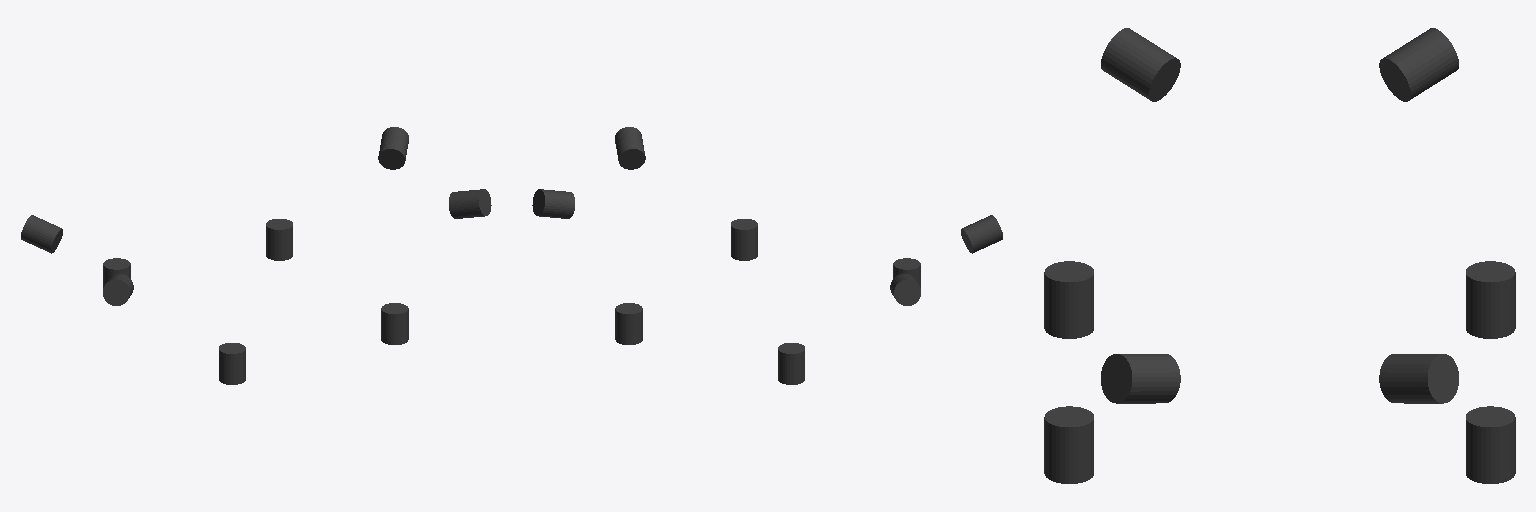
robot.urdf — rexrov:
<?xml version="1.0" ?>
<!-- =================================================================================== -->
<!-- |    This document was autogenerated by xacro from simulator_description/urdf/rexrov_default.xacro | -->
<!-- |    EDITING THIS FILE BY HAND IS NOT RECOMMENDED                                 | -->
<!-- =================================================================================== -->
<!-- Copyright (c) 2020 The Plankton Authors.
     All rights reserved.

     This source code is derived from UUV Simulator
     (https://github.com/uuvsimulator/uuv_simulator)
     Copyright (c) 2016-2019 The UUV Simulator Authors
     licensed under the Apache license, Version 2.0
     cf. 3rd-party-licenses.txt file in the root directory of this source tree.

     Licensed under the Apache License, Version 2.0 (the "License");
     you may not use this file except in compliance with the License.
     You may obtain a copy of the License at

       http://www.apache.org/licenses/LICENSE-2.0

     Unless required by applicable law or agreed to in writing, software
     distributed under the License is distributed on an "AS IS" BASIS,
     WITHOUT WARRANTIES OR CONDITIONS OF ANY KIND, either express or implied.
     See the License for the specific language governing permissions and
     limitations under the License.
-->
<robot name="rexrov">
  <!--
      The RexROV meshes and hydrodynamic parameters are based on the parameters and dimensions
      from the SF 30k.

      References:
        [1] Dukan, Fredrik. "ROV Motion Control Systems." PhD Thesis, NTNU, 2014.
        [2] Berg, Viktor. Development and Commissioning of a DP system for ROV SF 30k. MS
            thesis. Institutt for marin teknikk, 2012.

      Hull-only model: no sensors, thrusters or gazebo plugins.
      The mesh path is relative to the generated URDF/SDF, see CMakeLists.txt.
  -->
  <!--
      RexROV thruster geometry, identical to the UUV Simulator rexrov:
      thrusters 0-3 - main (vectored) thrusters at the top corners,
      thrusters 4-7 - vertical thrusters.

      Each thruster is a propeller link on a continuous joint (the thrust
      axis is the joint's local x-axis), driven by the built-in
      ignition::gazebo::systems::Thruster. Commands arrive on
      /model/<model>/joint/<joint>/cmd_thrust (gz.msgs.Double, Newtons) and
      are produced by the RexrovThrusterSystem allocator, which discovers
      these joints automatically by their "thruster_" name prefix.
  -->
  <!-- base_link according to ROS conventions: x forward, z up -->
  <link name="base_link">
    <inertial>
      <mass value="1862.87"/>
      <origin xyz="0 0 0"/>
      <inertia ixx="525.39" ixy="1.44" ixz="33.41" iyy="794.20" iyz="2.6" izz="691.23"/>
    </inertial>
    <visual>
      <origin rpy="0 0 0" xyz="0 0 0"/>
      <geometry>
        <mesh filename="meshes/RexROV_no_props.dae" scale="1 1 1"/>
      </geometry>
    </visual>
    <!-- bottom plate -->
    <collision>
      <origin rpy="0 0 0" xyz="0 0 -0.75"/>
      <geometry>
        <box size="2.56 1.50 0.10"/>
      </geometry>
    </collision>
    <!-- top plate -->
    <collision>
      <origin rpy="0 0 0" xyz="0 0 0.60"/>
      <geometry>
        <box size="2.56 1.50 0.40"/>
      </geometry>
    </collision>
    <!-- left / right sides -->
    <collision>
      <origin rpy="0 0 0" xyz="-0.20 0.70 -0.15"/>
      <geometry>
        <box size="2.20 0.10 1.10"/>
      </geometry>
    </collision>
    <collision>
      <origin rpy="0 0 0" xyz="-0.20 -0.70 -0.15"/>
      <geometry>
        <box size="2.20 0.10 1.10"/>
      </geometry>
    </collision>
  </link>
  <!-- Extension point for future gazebo plugin blocks (e.g. hydrodynamics) -->
  <gazebo>
    <plugin filename="libRexrovThrusterSystem.so" name="simulator_gazebo_plugins::RexrovThrusterSystem">
      <cmd_topic>/model/rexrov/cmd_vel</cmd_topic>
      <joint_prefix>thruster_</joint_prefix>
      <force_gain>1500</force_gain>
      <torque_gain>1000</torque_gain>
      <time_constant>0.05</time_constant>
    </plugin>
  </gazebo>
  <link name="thruster_0">
    <inertial>
      <mass value="0.001"/>
      <origin xyz="0 0 0"/>
      <inertia ixx="0.00000001" ixy="0.0" ixz="0.0" iyy="0.00000001" iyz="0.0" izz="0.00000001"/>
    </inertial>
    <visual>
      <origin rpy="0 0 0" xyz="0 0 0"/>
      <geometry>
        <cylinder length="0.15" radius="0.06"/>
      </geometry>
      <material name="">
        <color rgba="0.3 0.3 0.3 1.0"/>
      </material>
    </visual>
  </link>
  <joint name="thruster_0_joint" type="continuous">
    <parent link="base_link"/>
    <child link="thruster_0"/>
    <origin rpy="0.0 -1.3007937037 -0.9286895609" xyz="-0.890895 0.334385 0.528822"/>
    <axis xyz="1 0 0"/>
  </joint>
  <gazebo>
    <plugin filename="ignition-gazebo-thruster-system" name="ignition::gazebo::systems::Thruster">
      <joint_name>thruster_0_joint</joint_name>
      <thrust_coefficient>0.004422</thrust_coefficient>
      <fluid_density>1000</fluid_density>
      <propeller_diameter>0.2</propeller_diameter>
    </plugin>
  </gazebo>
  <link name="thruster_1">
    <inertial>
      <mass value="0.001"/>
      <origin xyz="0 0 0"/>
      <inertia ixx="0.00000001" ixy="0.0" ixz="0.0" iyy="0.00000001" iyz="0.0" izz="0.00000001"/>
    </inertial>
    <visual>
      <origin rpy="0 0 0" xyz="0 0 0"/>
      <geometry>
        <cylinder length="0.15" radius="0.06"/>
      </geometry>
      <material name="">
        <color rgba="0.3 0.3 0.3 1.0"/>
      </material>
    </visual>
  </link>
  <joint name="thruster_1_joint" type="continuous">
    <parent link="base_link"/>
    <child link="thruster_1"/>
    <origin rpy="0.0 -1.3007937037 0.9286895609" xyz="-0.890895 -0.334385 0.528822"/>
    <axis xyz="1 0 0"/>
  </joint>
  <gazebo>
    <plugin filename="ignition-gazebo-thruster-system" name="ignition::gazebo::systems::Thruster">
      <joint_name>thruster_1_joint</joint_name>
      <thrust_coefficient>0.004422</thrust_coefficient>
      <fluid_density>1000</fluid_density>
      <propeller_diameter>0.2</propeller_diameter>
    </plugin>
  </gazebo>
  <link name="thruster_2">
    <inertial>
      <mass value="0.001"/>
      <origin xyz="0 0 0"/>
      <inertia ixx="0.00000001" ixy="0.0" ixz="0.0" iyy="0.00000001" iyz="0.0" izz="0.00000001"/>
    </inertial>
    <visual>
      <origin rpy="0 0 0" xyz="0 0 0"/>
      <geometry>
        <cylinder length="0.15" radius="0.06"/>
      </geometry>
      <material name="">
        <color rgba="0.3 0.3 0.3 1.0"/>
      </material>
    </visual>
  </link>
  <joint name="thruster_2_joint" type="continuous">
    <parent link="base_link"/>
    <child link="thruster_2"/>
    <origin rpy="0.0 -1.8407984963 0.9286895609" xyz="0.890895 0.334385 0.528822"/>
    <axis xyz="1 0 0"/>
  </joint>
  <gazebo>
    <plugin filename="ignition-gazebo-thruster-system" name="ignition::gazebo::systems::Thruster">
      <joint_name>thruster_2_joint</joint_name>
      <thrust_coefficient>0.004422</thrust_coefficient>
      <fluid_density>1000</fluid_density>
      <propeller_diameter>0.2</propeller_diameter>
    </plugin>
  </gazebo>
  <link name="thruster_3">
    <inertial>
      <mass value="0.001"/>
      <origin xyz="0 0 0"/>
      <inertia ixx="0.00000001" ixy="0.0" ixz="0.0" iyy="0.00000001" iyz="0.0" izz="0.00000001"/>
    </inertial>
    <visual>
      <origin rpy="0 0 0" xyz="0 0 0"/>
      <geometry>
        <cylinder length="0.15" radius="0.06"/>
      </geometry>
      <material name="">
        <color rgba="0.3 0.3 0.3 1.0"/>
      </material>
    </visual>
  </link>
  <joint name="thruster_3_joint" type="continuous">
    <parent link="base_link"/>
    <child link="thruster_3"/>
    <origin rpy="0.0 -1.8407984963 -0.9286895609" xyz="0.890895 -0.334385 0.528822"/>
    <axis xyz="1 0 0"/>
  </joint>
  <gazebo>
    <plugin filename="ignition-gazebo-thruster-system" name="ignition::gazebo::systems::Thruster">
      <joint_name>thruster_3_joint</joint_name>
      <thrust_coefficient>0.004422</thrust_coefficient>
      <fluid_density>1000</fluid_density>
      <propeller_diameter>0.2</propeller_diameter>
    </plugin>
  </gazebo>
  <link name="thruster_4">
    <inertial>
      <mass value="0.001"/>
      <origin xyz="0 0 0"/>
      <inertia ixx="0.00000001" ixy="0.0" ixz="0.0" iyy="0.00000001" iyz="0.0" izz="0.00000001"/>
    </inertial>
    <visual>
      <origin rpy="0 0 0" xyz="0 0 0"/>
      <geometry>
        <cylinder length="0.15" radius="0.06"/>
      </geometry>
      <material name="">
        <color rgba="0.3 0.3 0.3 1.0"/>
      </material>
    </visual>
  </link>
  <joint name="thruster_4_joint" type="continuous">
    <parent link="base_link"/>
    <child link="thruster_4"/>
    <origin rpy="0.0 0.0 0.78539805" xyz="-0.412125 0.505415 0.129"/>
    <axis xyz="1 0 0"/>
  </joint>
  <gazebo>
    <plugin filename="ignition-gazebo-thruster-system" name="ignition::gazebo::systems::Thruster">
      <joint_name>thruster_4_joint</joint_name>
      <thrust_coefficient>0.004422</thrust_coefficient>
      <fluid_density>1000</fluid_density>
      <propeller_diameter>0.2</propeller_diameter>
    </plugin>
  </gazebo>
  <link name="thruster_5">
    <inertial>
      <mass value="0.001"/>
      <origin xyz="0 0 0"/>
      <inertia ixx="0.00000001" ixy="0.0" ixz="0.0" iyy="0.00000001" iyz="0.0" izz="0.00000001"/>
    </inertial>
    <visual>
      <origin rpy="0 0 0" xyz="0 0 0"/>
      <geometry>
        <cylinder length="0.15" radius="0.06"/>
      </geometry>
      <material name="">
        <color rgba="0.3 0.3 0.3 1.0"/>
      </material>
    </visual>
  </link>
  <joint name="thruster_5_joint" type="continuous">
    <parent link="base_link"/>
    <child link="thruster_5"/>
    <origin rpy="0.0 0.0 -0.78539805" xyz="-0.412125 -0.505415 0.129"/>
    <axis xyz="1 0 0"/>
  </joint>
  <gazebo>
    <plugin filename="ignition-gazebo-thruster-system" name="ignition::gazebo::systems::Thruster">
      <joint_name>thruster_5_joint</joint_name>
      <thrust_coefficient>0.004422</thrust_coefficient>
      <fluid_density>1000</fluid_density>
      <propeller_diameter>0.2</propeller_diameter>
    </plugin>
  </gazebo>
  <link name="thruster_6">
    <inertial>
      <mass value="0.001"/>
      <origin xyz="0 0 0"/>
      <inertia ixx="0.00000001" ixy="0.0" ixz="0.0" iyy="0.00000001" iyz="0.0" izz="0.00000001"/>
    </inertial>
    <visual>
      <origin rpy="0 0 0" xyz="0 0 0"/>
      <geometry>
        <cylinder length="0.15" radius="0.06"/>
      </geometry>
      <material name="">
        <color rgba="0.3 0.3 0.3 1.0"/>
      </material>
    </visual>
  </link>
  <joint name="thruster_6_joint" type="continuous">
    <parent link="base_link"/>
    <child link="thruster_6"/>
    <origin rpy="0.0 0.0 2.35619415" xyz="0.412125 0.505415 0.129"/>
    <axis xyz="1 0 0"/>
  </joint>
  <gazebo>
    <plugin filename="ignition-gazebo-thruster-system" name="ignition::gazebo::systems::Thruster">
      <joint_name>thruster_6_joint</joint_name>
      <thrust_coefficient>0.004422</thrust_coefficient>
      <fluid_density>1000</fluid_density>
      <propeller_diameter>0.2</propeller_diameter>
    </plugin>
  </gazebo>
  <link name="thruster_7">
    <inertial>
      <mass value="0.001"/>
      <origin xyz="0 0 0"/>
      <inertia ixx="0.00000001" ixy="0.0" ixz="0.0" iyy="0.00000001" iyz="0.0" izz="0.00000001"/>
    </inertial>
    <visual>
      <origin rpy="0 0 0" xyz="0 0 0"/>
      <geometry>
        <cylinder length="0.15" radius="0.06"/>
      </geometry>
      <material name="">
        <color rgba="0.3 0.3 0.3 1.0"/>
      </material>
    </visual>
  </link>
  <joint name="thruster_7_joint" type="continuous">
    <parent link="base_link"/>
    <child link="thruster_7"/>
    <origin rpy="0.0 0.0 -2.35619415" xyz="0.412125 -0.505415 0.129"/>
    <axis xyz="1 0 0"/>
  </joint>
  <gazebo>
    <plugin filename="ignition-gazebo-thruster-system" name="ignition::gazebo::systems::Thruster">
      <joint_name>thruster_7_joint</joint_name>
      <thrust_coefficient>0.004422</thrust_coefficient>
      <fluid_density>1000</fluid_density>
      <propeller_diameter>0.2</propeller_diameter>
    </plugin>
  </gazebo>
</robot>

--- What the picture shows (computed from the rendered views, not written in the file) ---
The picture shows the robot from 3 angles, left to right: view 1: azimuth 30°, elevation 25°; view 2: azimuth 150°, elevation 25°; view 3: azimuth 270°, elevation 25°; orthographic projection.
Robot: rexrov — 9 links, 8 joints (8 continuous); root link base_link; default pose: all joints at 0.
Links seen in each view (by area): view 1: thruster_7, thruster_3, thruster_5, thruster_6, thruster_2, thruster_0, thruster_1; view 2: thruster_6, thruster_2, thruster_4, thruster_7, thruster_3, thruster_1, thruster_0; view 3: thruster_4, thruster_5, thruster_6, thruster_7, thruster_0, thruster_1, thruster_2, thruster_3.
Boxes of the visible links, bbox=[...] form: thruster_7: bbox=[381, 303, 408, 344]; thruster_3: bbox=[449, 189, 491, 218]; thruster_5: bbox=[219, 343, 245, 384]; thruster_6: bbox=[266, 219, 292, 260]; thruster_2: bbox=[378, 127, 408, 169]; thruster_0: bbox=[21, 215, 62, 253]; thruster_1: bbox=[103, 274, 133, 305]; thruster_6: bbox=[615, 303, 642, 344]; thruster_2: bbox=[532, 189, 574, 218]; thruster_4: bbox=[778, 343, 804, 384]; thruster_7: bbox=[731, 219, 757, 260]; thruster_3: bbox=[615, 127, 645, 169]; thruster_1: bbox=[961, 215, 1002, 253]; thruster_0: bbox=[890, 274, 920, 305]; thruster_4: bbox=[1466, 261, 1515, 338]; thruster_5: bbox=[1044, 261, 1093, 338]; thruster_6: bbox=[1466, 406, 1515, 483]; thruster_7: bbox=[1044, 406, 1093, 483]; thruster_0: bbox=[1379, 28, 1458, 101]; thruster_1: bbox=[1101, 28, 1180, 101]; thruster_2: bbox=[1379, 354, 1458, 403]; thruster_3: bbox=[1101, 354, 1180, 403].
Size in the robot's own frame: 1.97 by 1.13 by 0.5527 metres.
Meshes: 1 distinct files referenced, 0 mesh visuals loaded (none loaded); not drawn: 1 (file found but could not be loaded).
